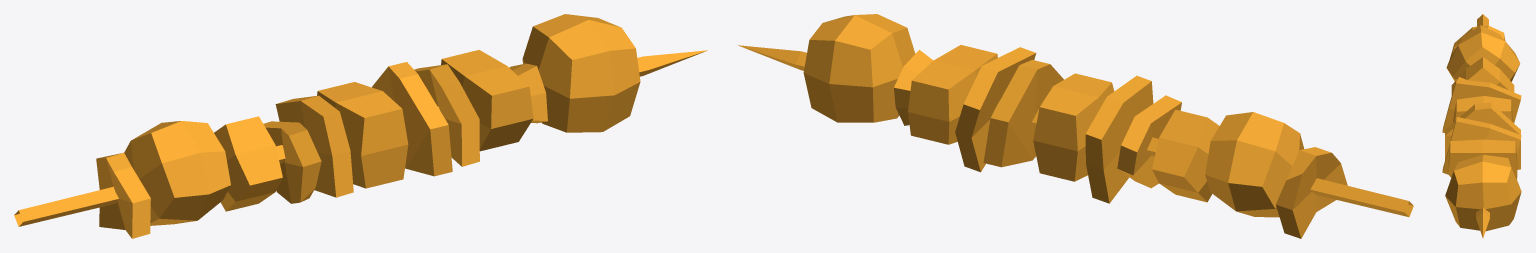
File: SM_Skewer_Grilled_B.fbx
The picture shows the model from 3 angles, left to right: view 1: azimuth 30°, elevation 25°; view 2: azimuth 150°, elevation 25°; view 3: azimuth 270°, elevation 25°; orthographic projection. The views are drawn at different scales.
Visible parts, largest first — view 1: skewer-grilled-b; view 2: skewer-grilled-b; view 3: skewer-grilled-b.
Boxes of the visible parts, <box> form: skewer-grilled-b: <box>14,14,707,238</box>; skewer-grilled-b: <box>738,14,1413,238</box>; skewer-grilled-b: <box>1442,14,1521,238</box>.
Size of the model in its own units: 0.3699 by 0.0569 by 0.0565.
